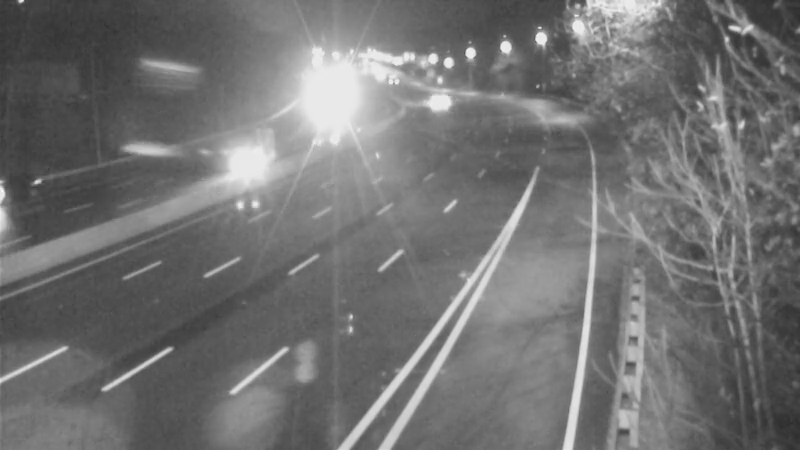vehicle: (196, 123, 276, 203), (1, 149, 66, 229), (363, 56, 413, 106), (410, 76, 460, 126)
